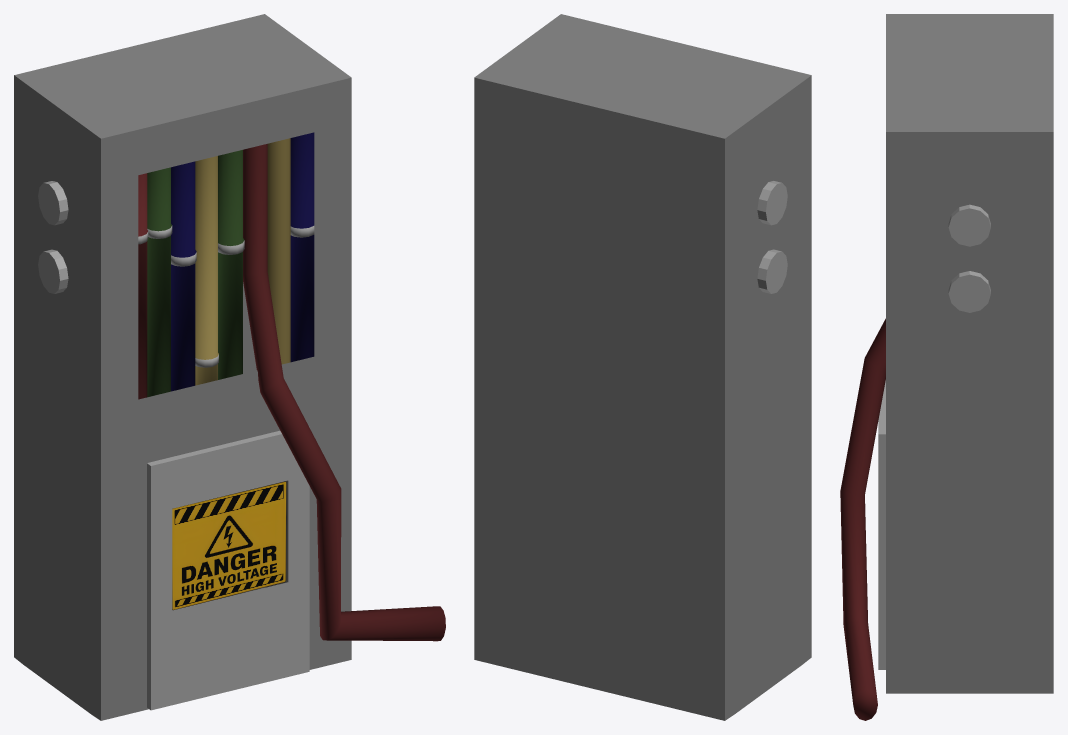
File: wire_cabinet.fbx
The picture shows the model from 3 angles, left to right: view 1: azimuth 30°, elevation 25°; view 2: azimuth 150°, elevation 25°; view 3: azimuth 270°, elevation 25°; orthographic projection. The views are drawn at different scales.
Visible parts, largest first — view 1: Plane.006; view 2: Plane.006; view 3: Plane.006.
Part boxes in pixels (bbox=[...]): Plane.006: bbox=[14, 14, 445, 720]; Plane.006: bbox=[474, 14, 811, 720]; Plane.006: bbox=[840, 14, 1053, 720].
Bounding box in the file's own units: 121 × 200 × 68.83.
